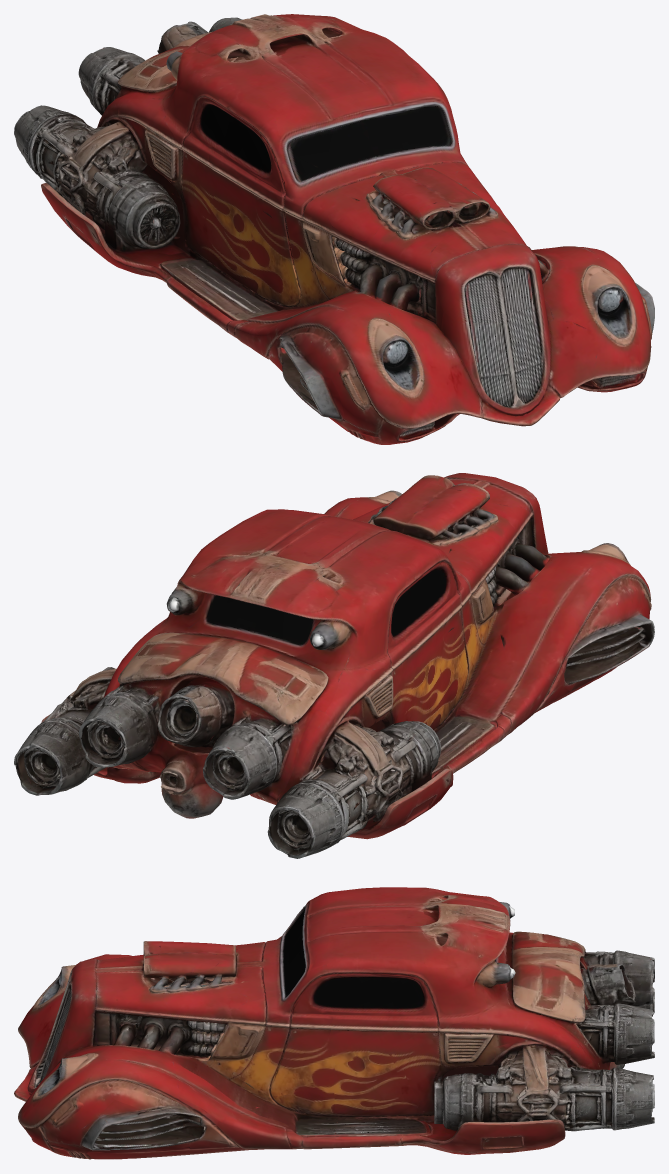
Rendered from crimson_flame_dragster_browser.glb.
The picture shows the model from 3 angles, top to bottom: view 1: azimuth 30°, elevation 25°; view 2: azimuth 150°, elevation 25°; view 3: azimuth 270°, elevation 25°; orthographic projection. The views are drawn at different scales.
Parts seen in each view (by area): view 1: crimson_flame_dragster; view 2: crimson_flame_dragster; view 3: crimson_flame_dragster.
Boxes of the visible parts, box(x1,y1,x2,y2) form: crimson_flame_dragster: box(14, 14, 654, 444); crimson_flame_dragster: box(14, 473, 654, 858); crimson_flame_dragster: box(14, 887, 654, 1159).
Bounding box in the file's own units: 3.15 × 1.93 × 5.6.
1 material, 1 textured.
